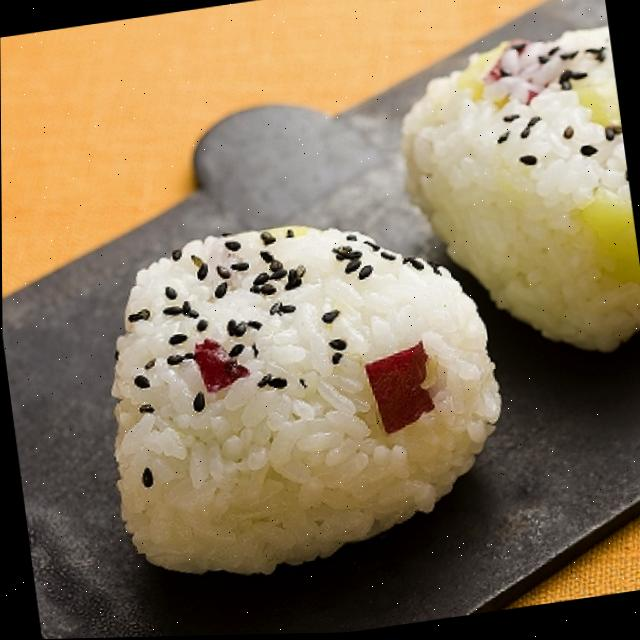米饭主食: (68, 163, 533, 608), (374, 6, 640, 388)
